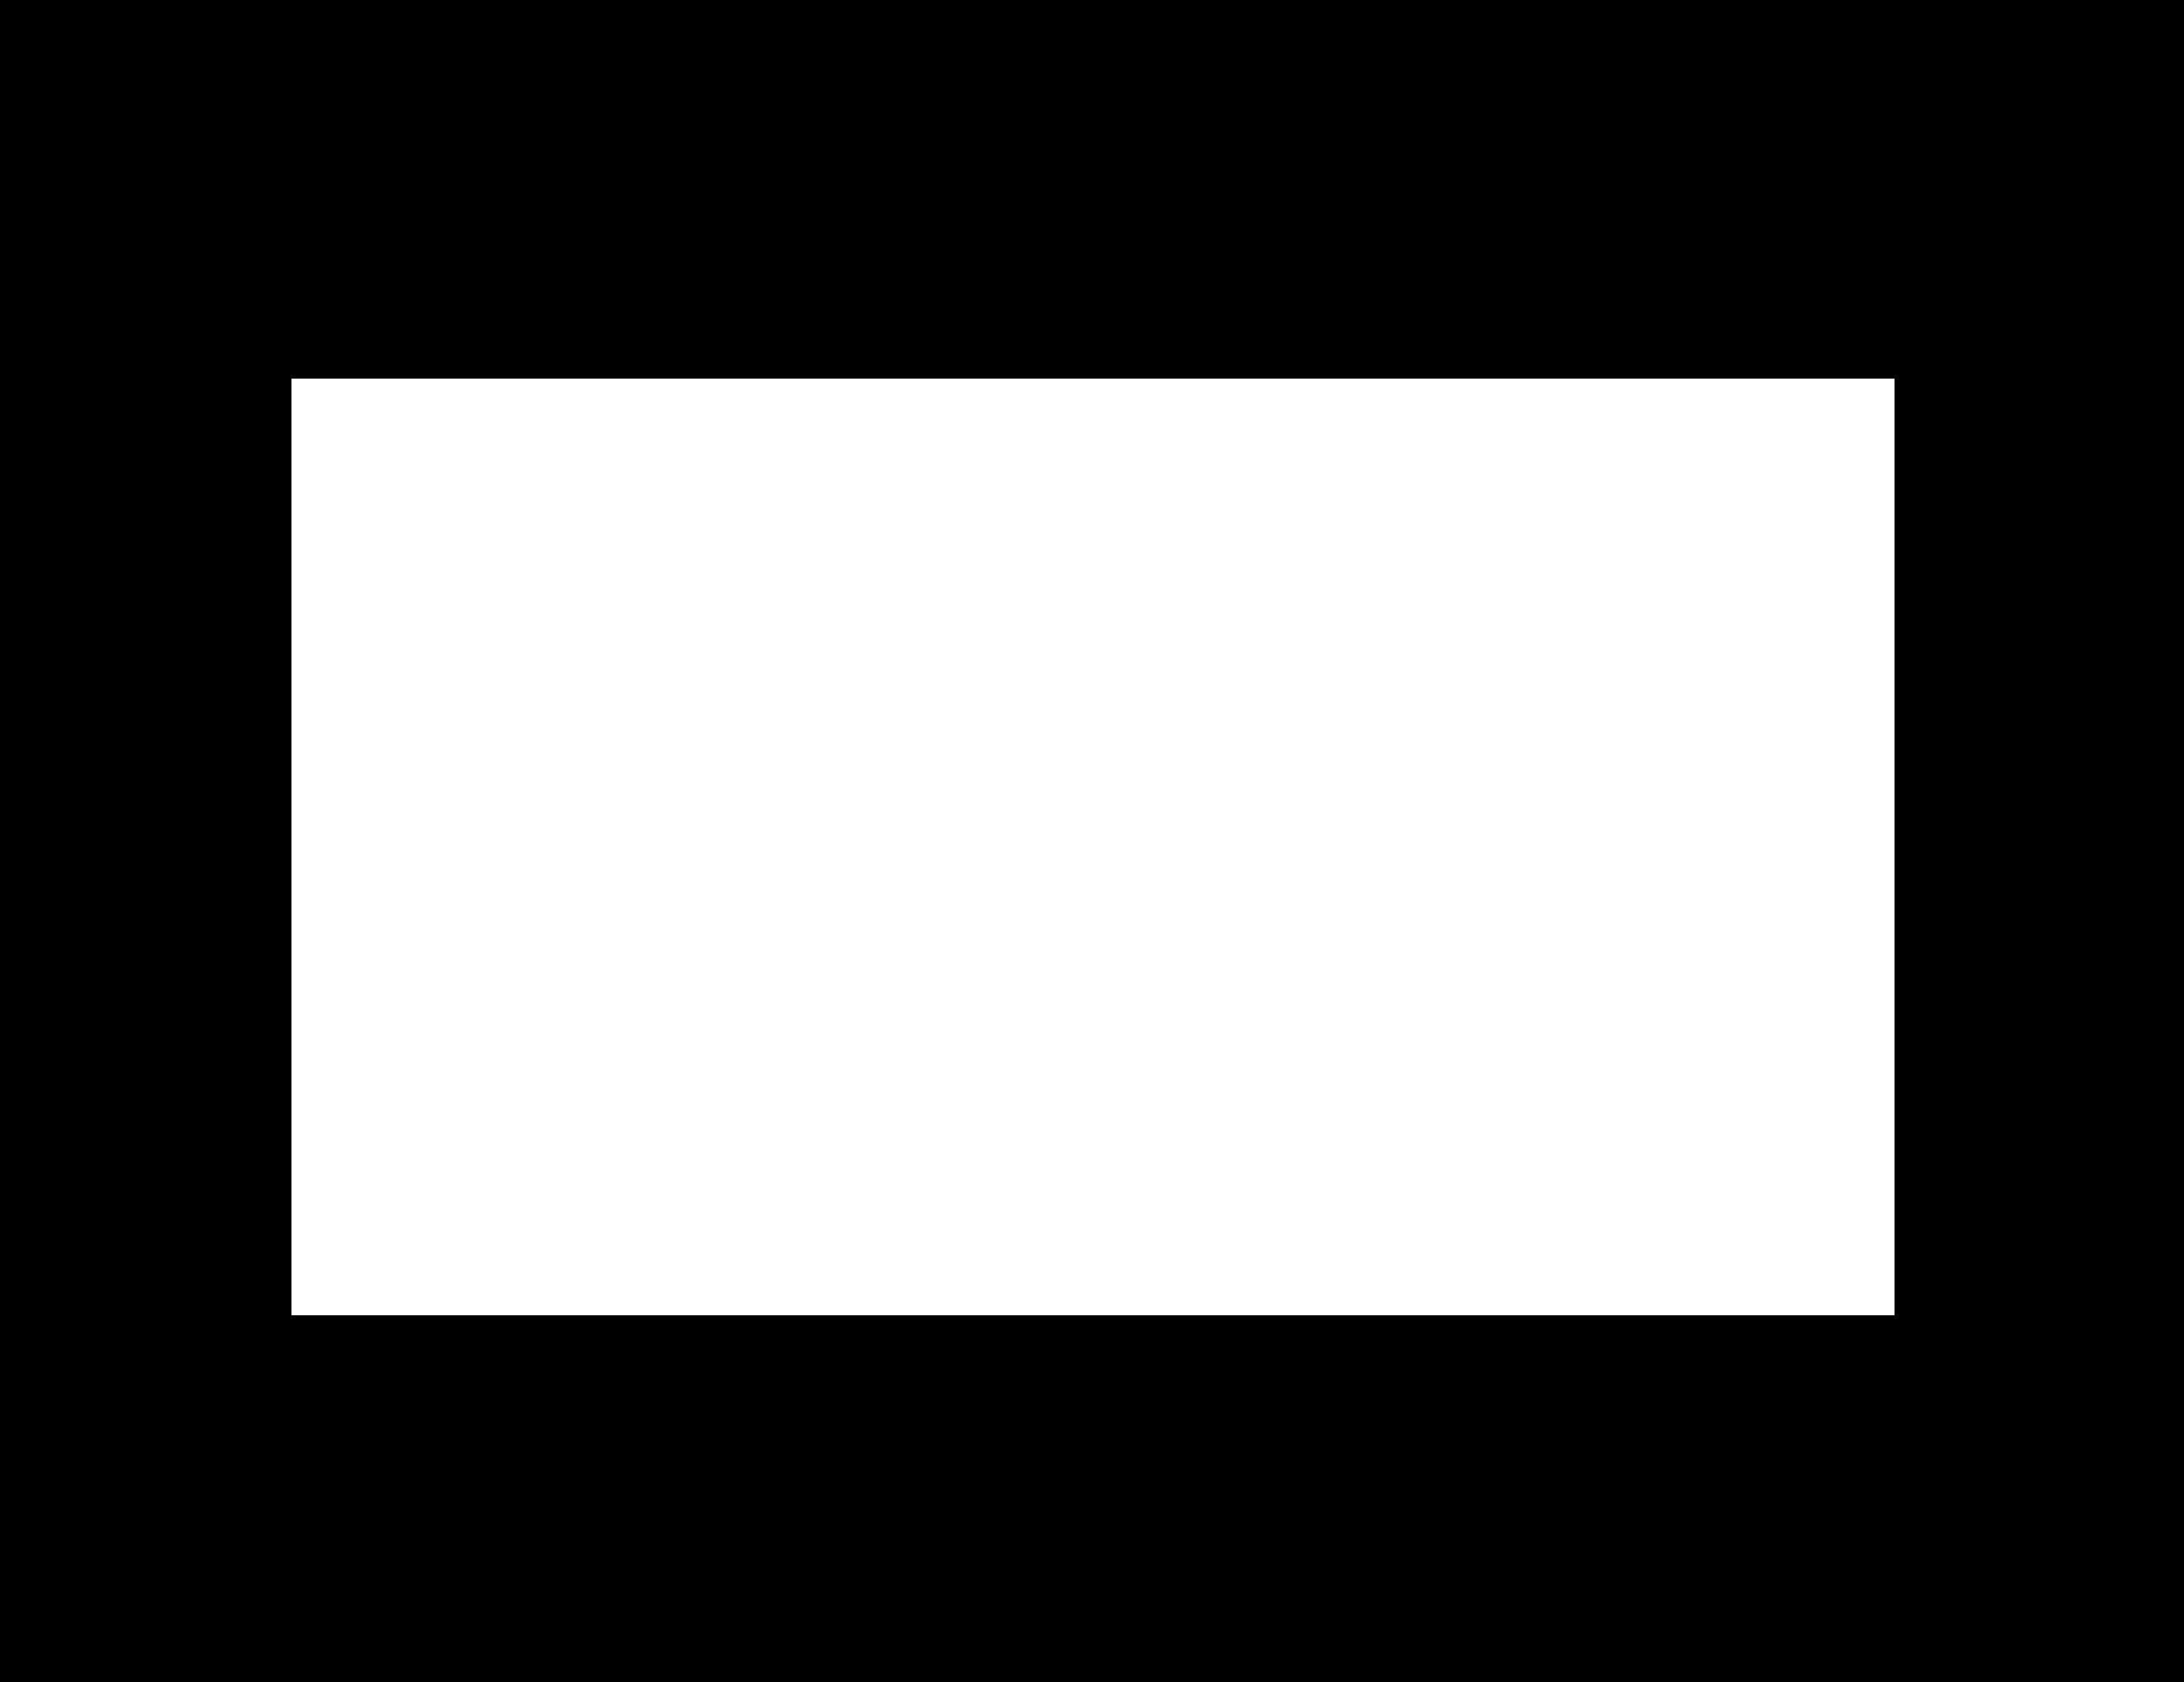table: (291, 378, 1894, 1315)
